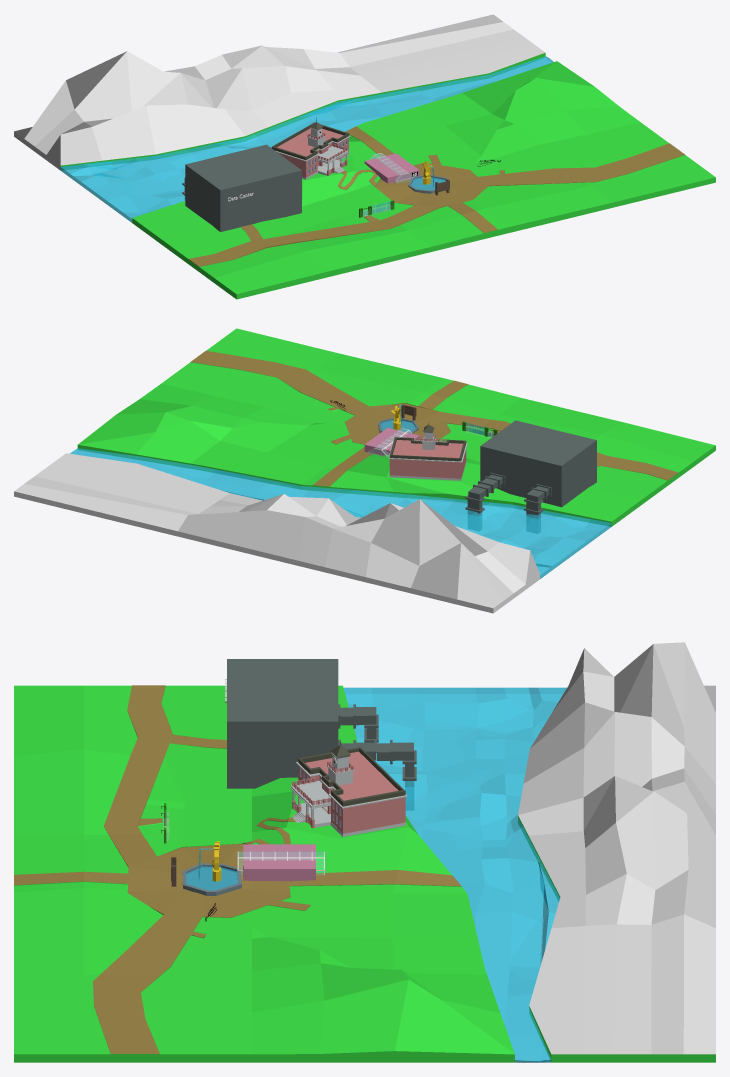
The model's file is Downtown.fbx.
3 views of the same model, one above another, from view 1: azimuth 30°, elevation 25°; view 2: azimuth 150°, elevation 25°; view 3: azimuth 270°, elevation 25° (orthographic). The views are drawn at different scales.
Visible parts, largest first — view 1: Plane.063, Plane.064, Cube, Plane.043, Plane.042, Plane.065; view 2: Plane.063, Plane.064, Cube, Plane.043, Plane.042; view 3: Plane.063, Plane.064, Cube, Plane.043, Plane.042, Plane.065, Plane.041.
Part boxes in pixels (x1,y1,x2,y2): Plane.063: (14,14,715,299); Plane.064: (60,56,553,222); Cube: (182,144,301,231); Plane.043: (271,117,350,179); Plane.042: (364,153,419,183); Plane.065: (408,175,448,193); Plane.063: (14,328,715,613); Plane.064: (70,448,611,578); Cube: (465,420,596,533); Plane.043: (388,421,467,480); Plane.042: (364,427,419,455); Plane.063: (14,642,715,1062); Plane.064: (343,687,566,1062); Cube: (227,659,416,809); Plane.043: (290,739,407,836); Plane.042: (243,844,315,881); Plane.065: (182,863,241,895); Plane.041: (237,851,324,875).
Bounding box in the file's own units: 19260 × 3524 × 15443.
